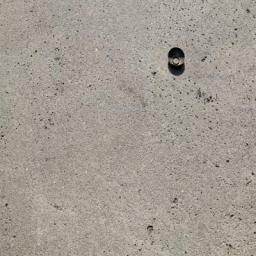FOD: (166, 45, 193, 80)
